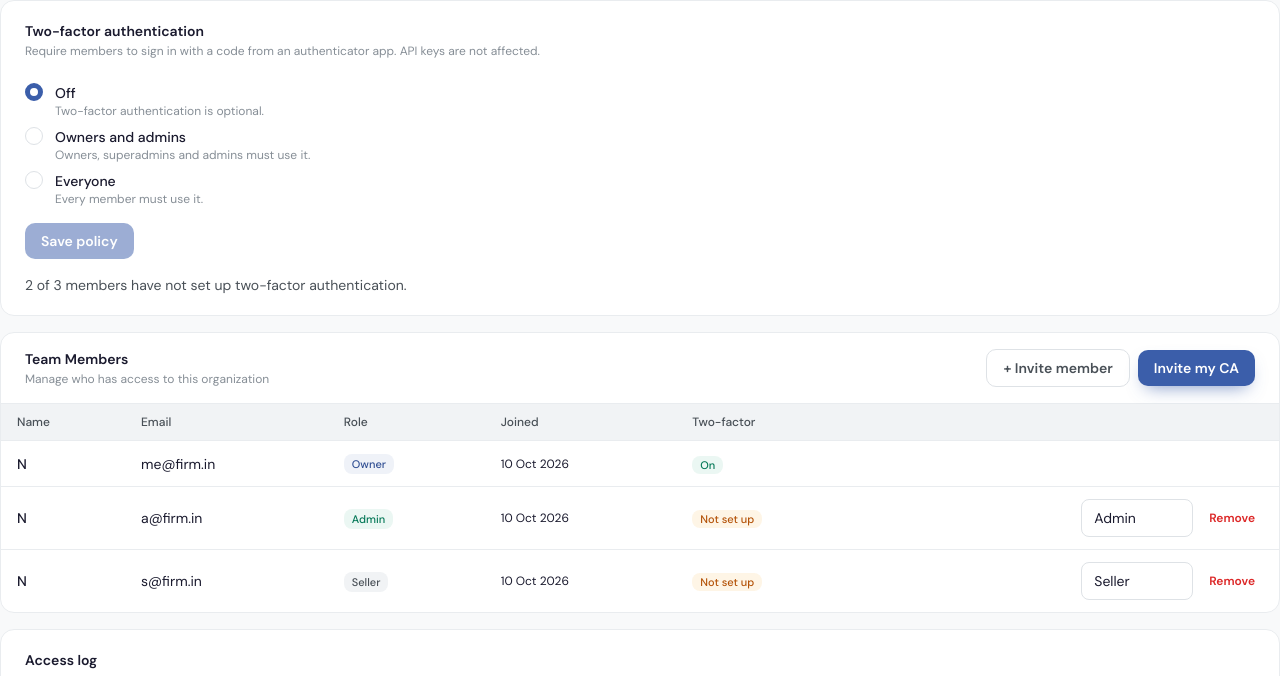
Test: Team tab two-factor › an owner without 2FA of their own cannot save a policy
This screenshot has width=1280, height=676.
What coordinates should you click on to do the following:
click the radio button labelled "Everyone Every member must use it."
I would click on:
 (34, 180)
Its box is [25, 171, 43, 189].
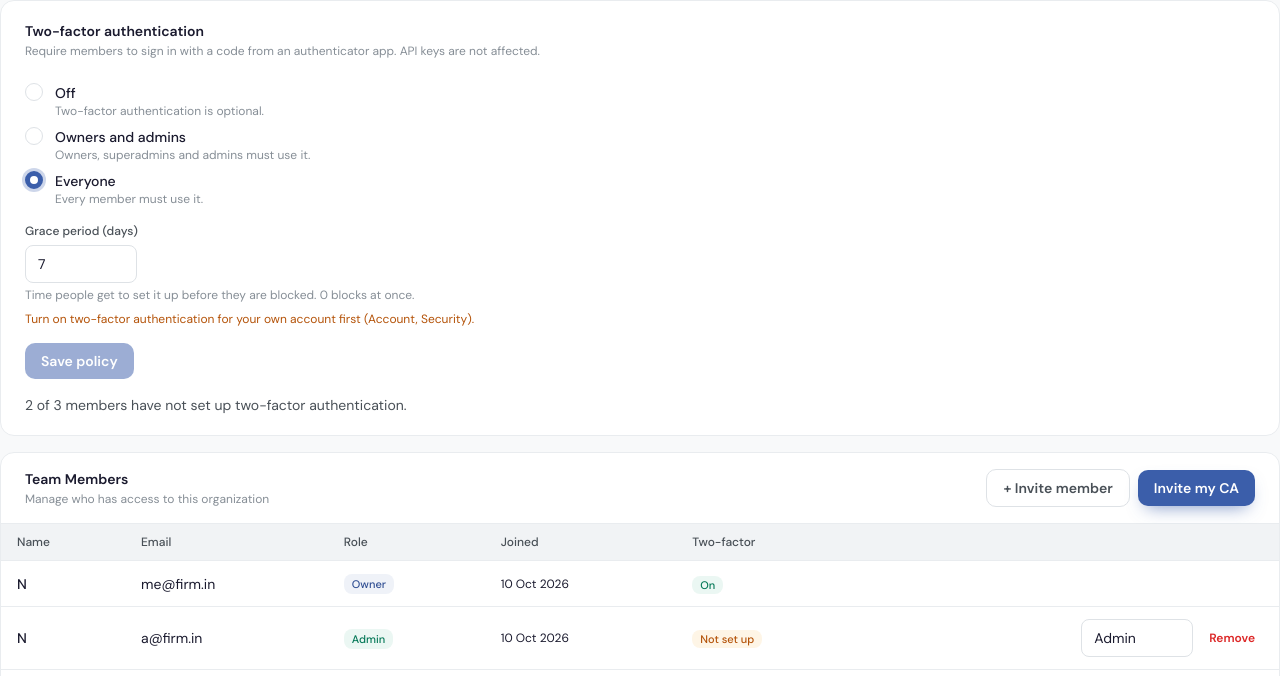
Expected: the button "Save policy" is disabled, [25, 343, 134, 379]
Expected: the text "Turn on two-factor authentication for your own account first" is shown, [25, 311, 474, 327]
